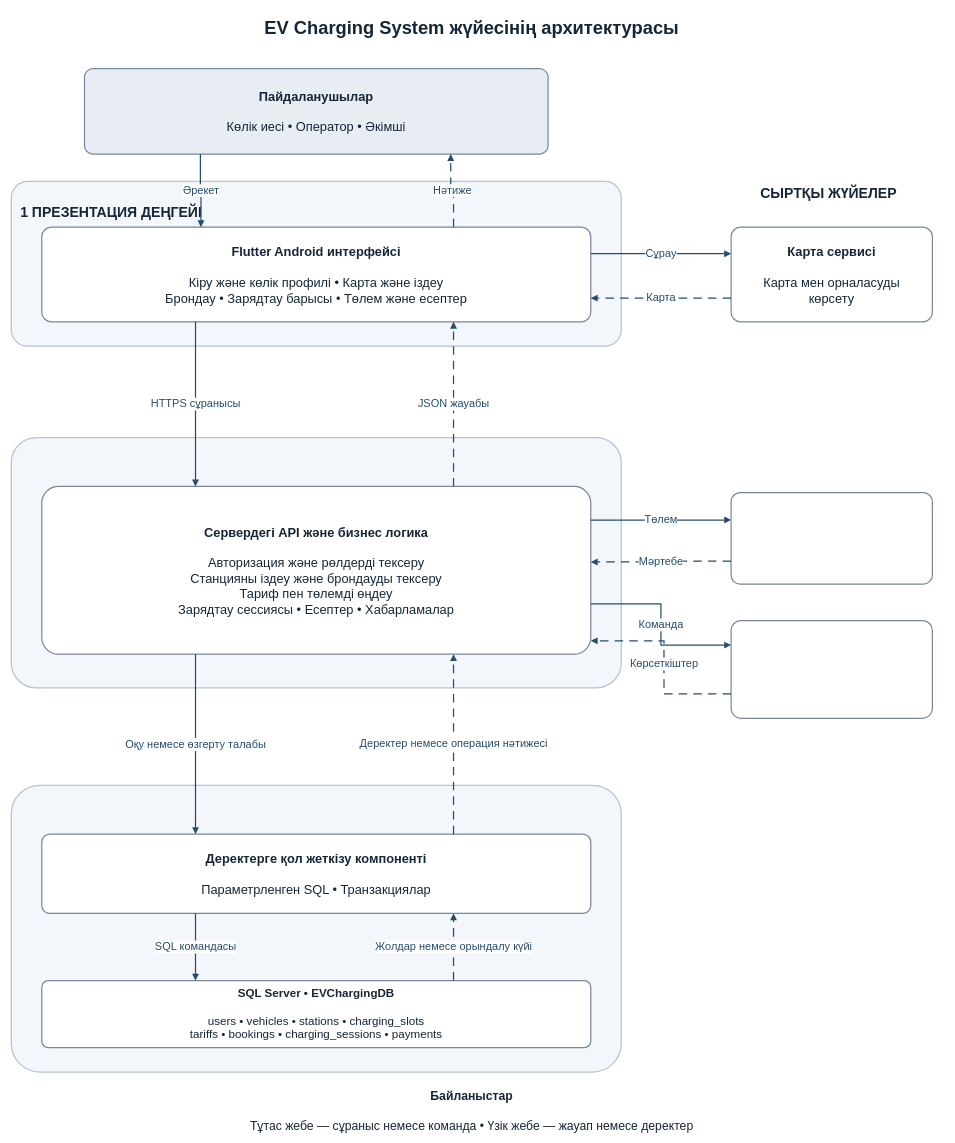
Image size: 955x1143. Some labels were removed from this diagram. The box of each missing label's shape, as (x1, y1, x2, y2) in pixels:
2 ҚОЛДАНБАЛЫ ЛОГИКА ДЕҢГЕЙІ: (10, 437, 622, 688)
3 ДЕРЕКТЕР ДЕҢГЕЙІ: (10, 784, 622, 1072)
Станция контроллері Іске қосу және тоқтату Энергия көрсеткіштері: (730, 620, 933, 719)
Төлем шлюзі Төлемді өңдеу және растау: (730, 492, 933, 584)
